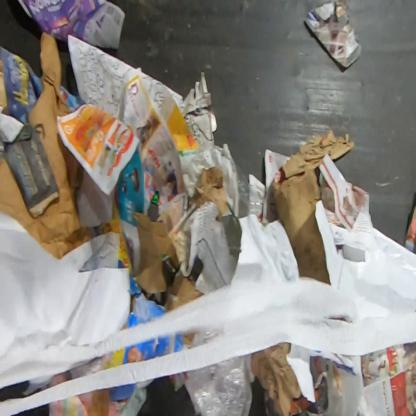cardboard: (0, 32, 93, 261), (272, 129, 355, 284), (132, 210, 180, 294), (166, 277, 205, 312)
soft_plastic: (186, 356, 253, 416), (236, 163, 264, 223)
